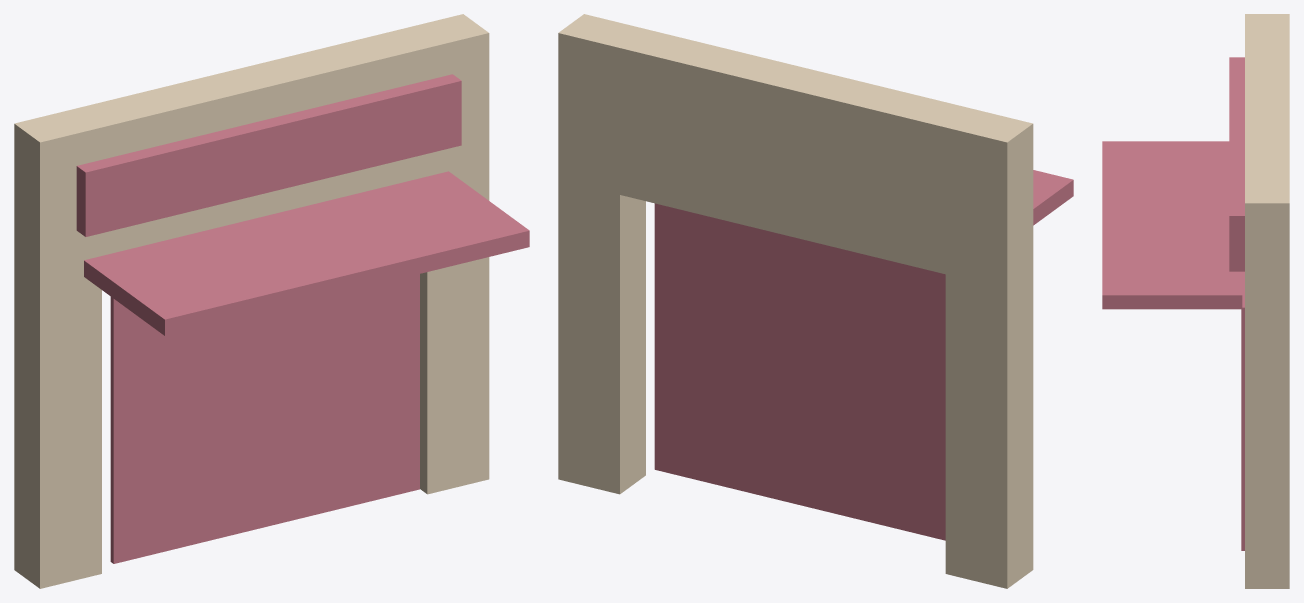
Rendered from bh_souq_shop_tailor_01_lod0.glb.
3 renders of one model, left to right at view 1: azimuth 30°, elevation 25°; view 2: azimuth 150°, elevation 25°; view 3: azimuth 270°, elevation 25°, orthographic. The views are drawn at different scales.
Parts seen in each view (by area): view 1: bh_souq_shop_tailor_01_infill, bh_souq_shop_tailor_01_left, bh_souq_shop_tailor_01_awning, bh_souq_shop_tailor_01_fascia, bh_souq_shop_tailor_01_top, bh_souq_shop_tailor_01_right; view 2: bh_souq_shop_tailor_01_infill, bh_souq_shop_tailor_01_top, bh_souq_shop_tailor_01_left, bh_souq_shop_tailor_01_right, bh_souq_shop_tailor_01_awning; view 3: bh_souq_shop_tailor_01_awning, bh_souq_shop_tailor_01_right, bh_souq_shop_tailor_01_top, bh_souq_shop_tailor_01_fascia, bh_souq_shop_tailor_01_left, bh_souq_shop_tailor_01_infill.
Part boxes in pixels (left/top/right/bottom): bh_souq_shop_tailor_01_infill: left=110, top=274, right=419, bottom=563; bh_souq_shop_tailor_01_left: left=14, top=108, right=101, bottom=588; bh_souq_shop_tailor_01_awning: left=84, top=171, right=529, bottom=335; bh_souq_shop_tailor_01_fascia: left=76, top=74, right=461, bottom=236; bh_souq_shop_tailor_01_top: left=76, top=29, right=427, bottom=255; bh_souq_shop_tailor_01_right: left=402, top=14, right=489, bottom=494; bh_souq_shop_tailor_01_infill: left=654, top=203, right=945, bottom=540; bh_souq_shop_tailor_01_top: left=620, top=29, right=970, bottom=274; bh_souq_shop_tailor_01_left: left=945, top=108, right=1033, bottom=588; bh_souq_shop_tailor_01_right: left=558, top=14, right=645, bottom=494; bh_souq_shop_tailor_01_awning: left=1033, top=170, right=1073, bottom=225; bh_souq_shop_tailor_01_awning: left=1102, top=141, right=1242, bottom=309; bh_souq_shop_tailor_01_right: left=1245, top=177, right=1289, bottom=588; bh_souq_shop_tailor_01_top: left=1245, top=40, right=1289, bottom=177; bh_souq_shop_tailor_01_fascia: left=1229, top=57, right=1244, bottom=271; bh_souq_shop_tailor_01_left: left=1245, top=14, right=1289, bottom=39; bh_souq_shop_tailor_01_infill: left=1241, top=271, right=1244, bottom=550.
Bounding box in the file's own units: 4 × 3.8 × 1.68.
